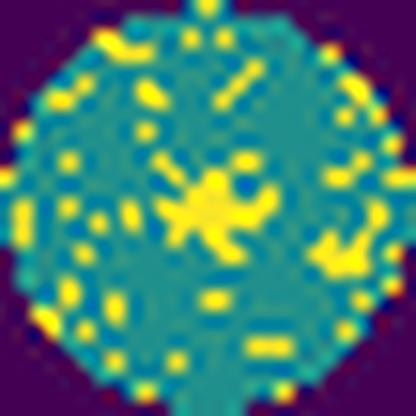Center: (146, 147, 286, 265)
